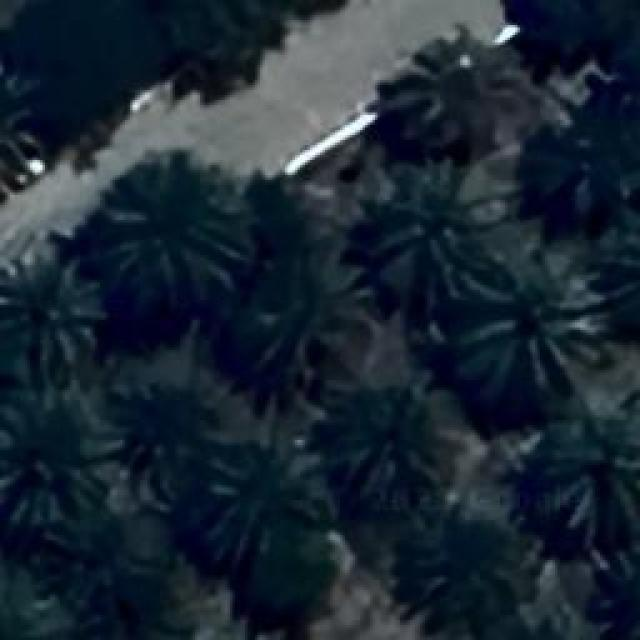PalmTree: (101, 53, 612, 594), (55, 91, 131, 613), (86, 165, 232, 305), (468, 246, 572, 399), (192, 470, 326, 585), (0, 393, 112, 521), (392, 46, 502, 166), (320, 390, 440, 498), (416, 516, 532, 606), (254, 256, 342, 372), (8, 250, 102, 355), (547, 442, 635, 540), (118, 391, 216, 479), (70, 534, 158, 616), (380, 182, 455, 276), (0, 66, 51, 201), (591, 220, 640, 338), (538, 124, 602, 214), (528, 0, 632, 48), (595, 62, 640, 162), (0, 582, 46, 640)
